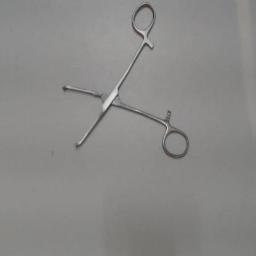Allis Tissue Forceps: (58, 2, 194, 164)
